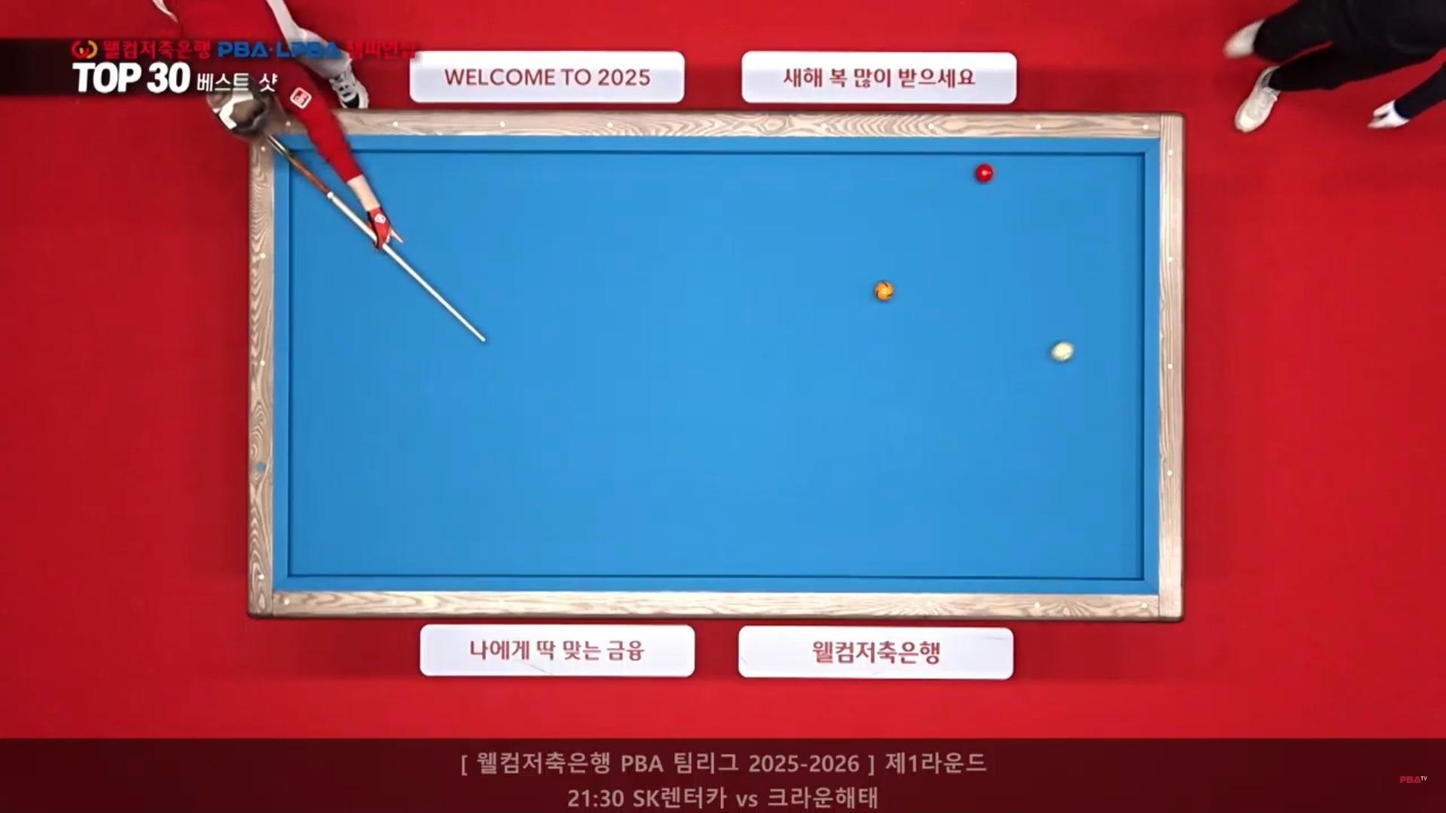Red: (971, 166, 995, 185)
White: (1048, 342, 1076, 364)
billiard-ball-Yellow: (870, 280, 898, 301)
